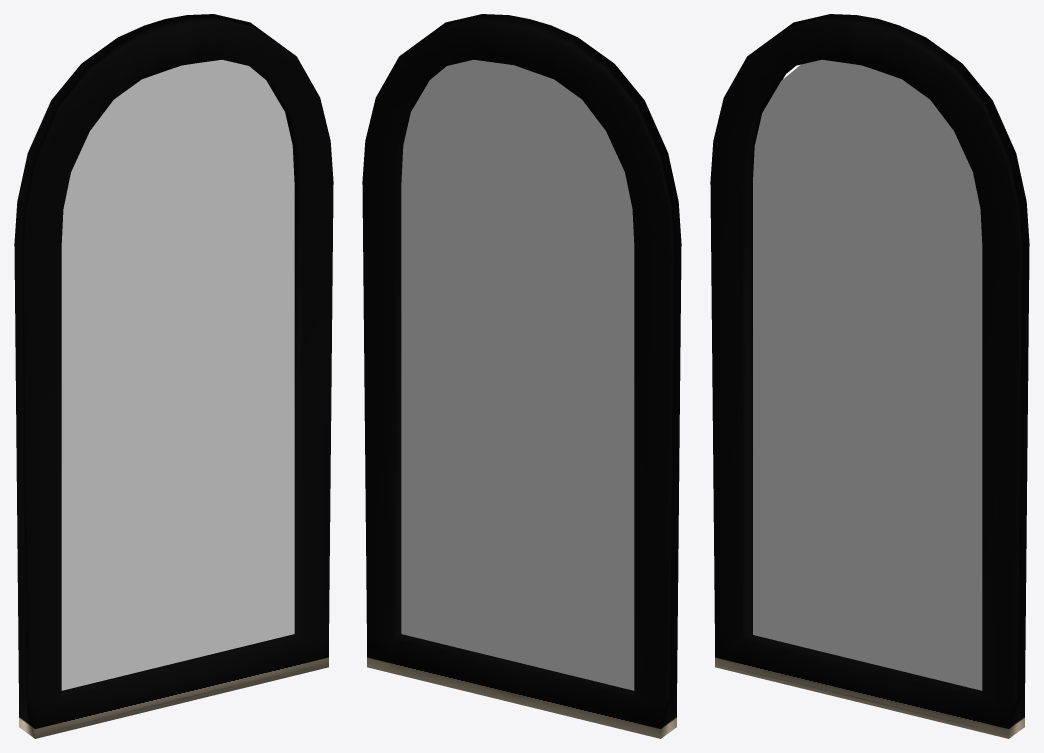
File: Iglesia-Ventana.fbx
3 renders of one model, left to right at view 1: azimuth 30°, elevation 25°; view 2: azimuth 150°, elevation 25°; view 3: azimuth 330°, elevation 25°, orthographic.
Visible parts, largest first — view 1: Cube.006, Cube.011; view 2: Cube.006, Cube.011; view 3: Cube.006, Cube.011.
Part boxes in pixels (left/top/right/bottom): Cube.006: left=61, top=59, right=294, bottom=690; Cube.011: left=14, top=14, right=333, bottom=738; Cube.006: left=401, top=59, right=634, bottom=690; Cube.011: left=362, top=14, right=681, bottom=738; Cube.006: left=753, top=59, right=982, bottom=690; Cube.011: left=710, top=14, right=1029, bottom=738.
Bounding box in the file's own units: 0.9437 × 2 × 0.0894.
